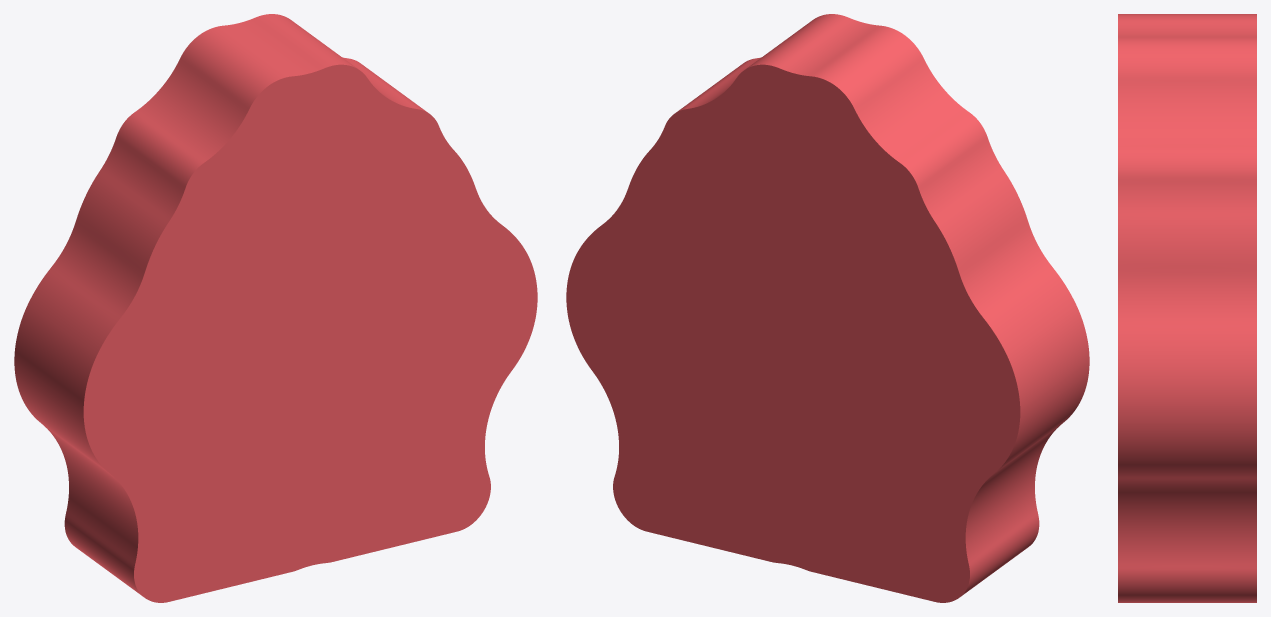
File: fatguy.gltf
3 views of the same model, side by side, from view 1: azimuth 30°, elevation 25°; view 2: azimuth 150°, elevation 25°; view 3: azimuth 270°, elevation 25° (orthographic).
Size of the model in its own units: 0.227 by 0.2372 by 0.06.
